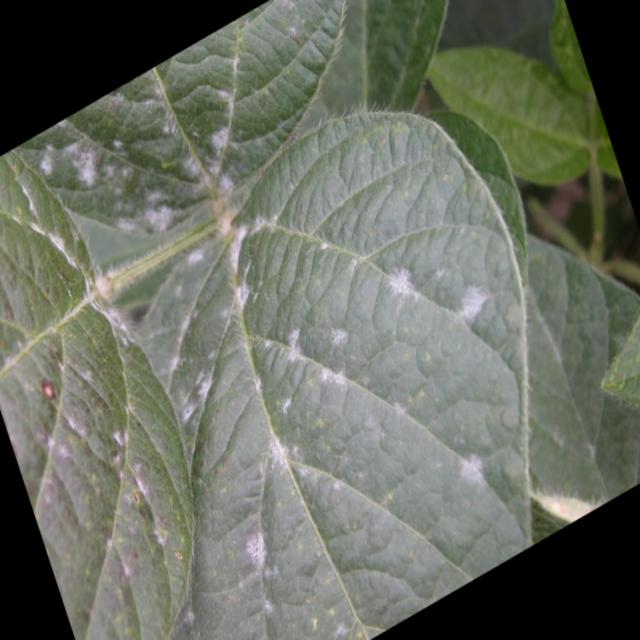Powdery Mildew: (1, 2, 636, 637)
